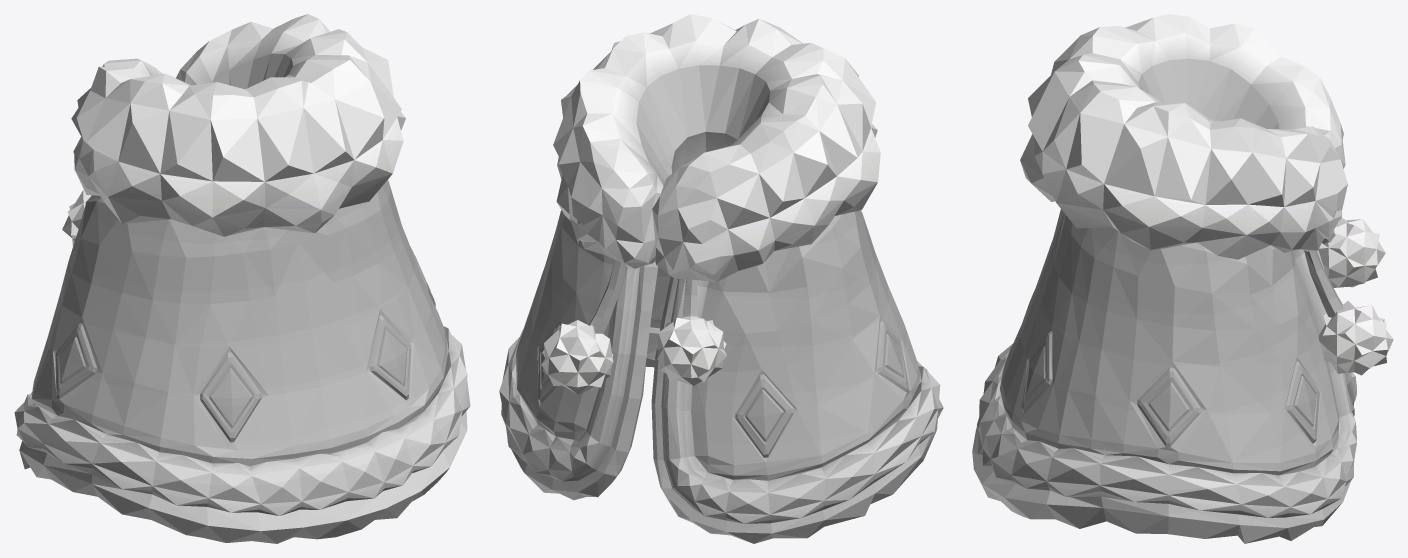
File: CharSkyKid_Wing_FeastFluffyShawl.glb
The picture shows the model from 3 angles, left to right: view 1: azimuth 30°, elevation 25°; view 2: azimuth 150°, elevation 25°; view 3: azimuth 270°, elevation 25°; orthographic projection. The views are drawn at different scales.
Parts seen in each view (by area): view 1: CharSkyKid_Wing_FeastFluffyShawl; view 2: CharSkyKid_Wing_FeastFluffyShawl; view 3: CharSkyKid_Wing_FeastFluffyShawl.
Boxes of the visible parts, box(x1,y1,x2,y2) form: CharSkyKid_Wing_FeastFluffyShawl: box(14, 14, 470, 543); CharSkyKid_Wing_FeastFluffyShawl: box(499, 14, 943, 543); CharSkyKid_Wing_FeastFluffyShawl: box(972, 14, 1393, 543).
Size of the model in its own units: 5.1 by 5.06 by 4.63.
Materials: 1 (1 with a texture image).
